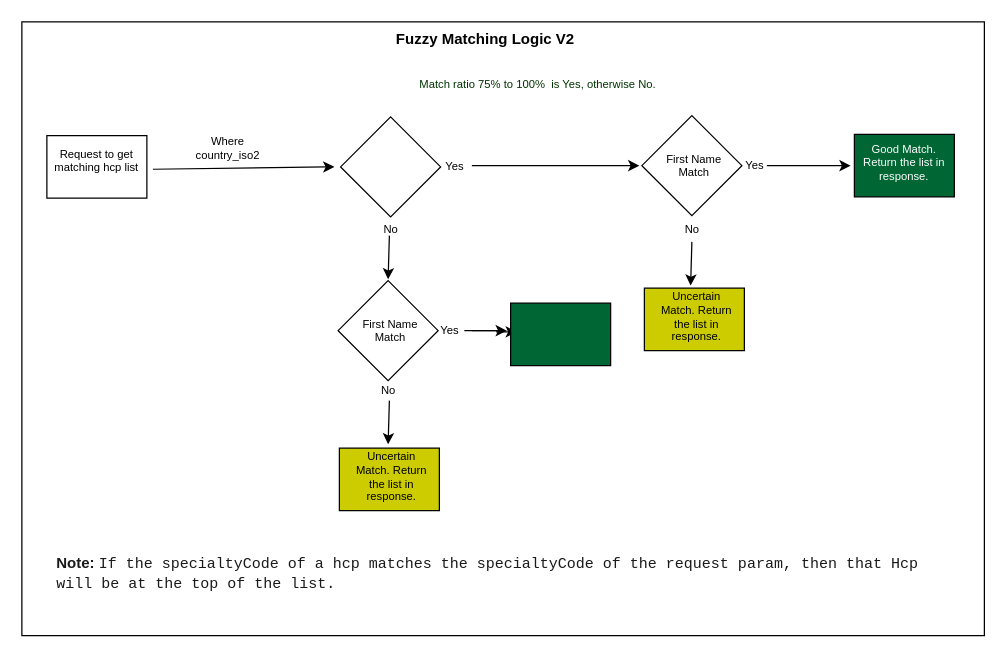
The diagram is 1006 pixels wide and 658 high, and some of its shapes have lost their labels. Here are the shapes that lost their labels. From the top down, the centre of each, then its label:
At (x=390, y=166): "Last Name Match".
At (x=560, y=334): "Name Changed. Return the list in response.".
